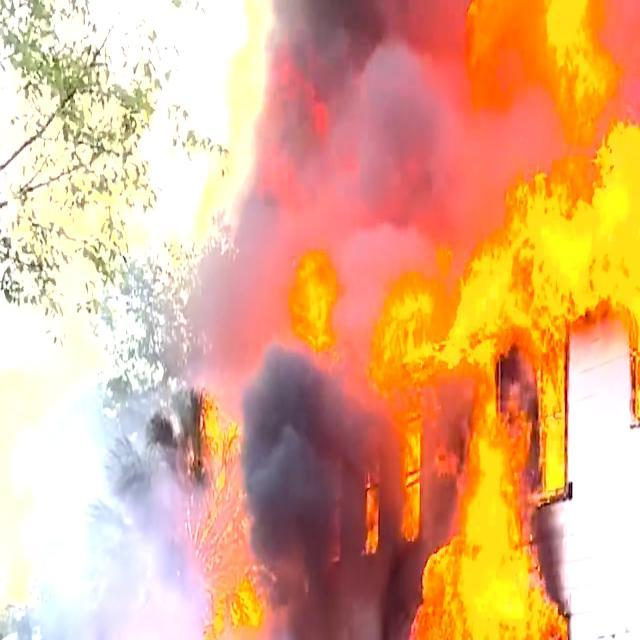Fire: (499, 134, 634, 290), (447, 420, 538, 640), (458, 288, 566, 401), (365, 293, 448, 397), (278, 272, 348, 368), (561, 13, 616, 117), (390, 409, 424, 539), (364, 458, 374, 548)
Smoke: (275, 2, 462, 234), (248, 363, 346, 640)
